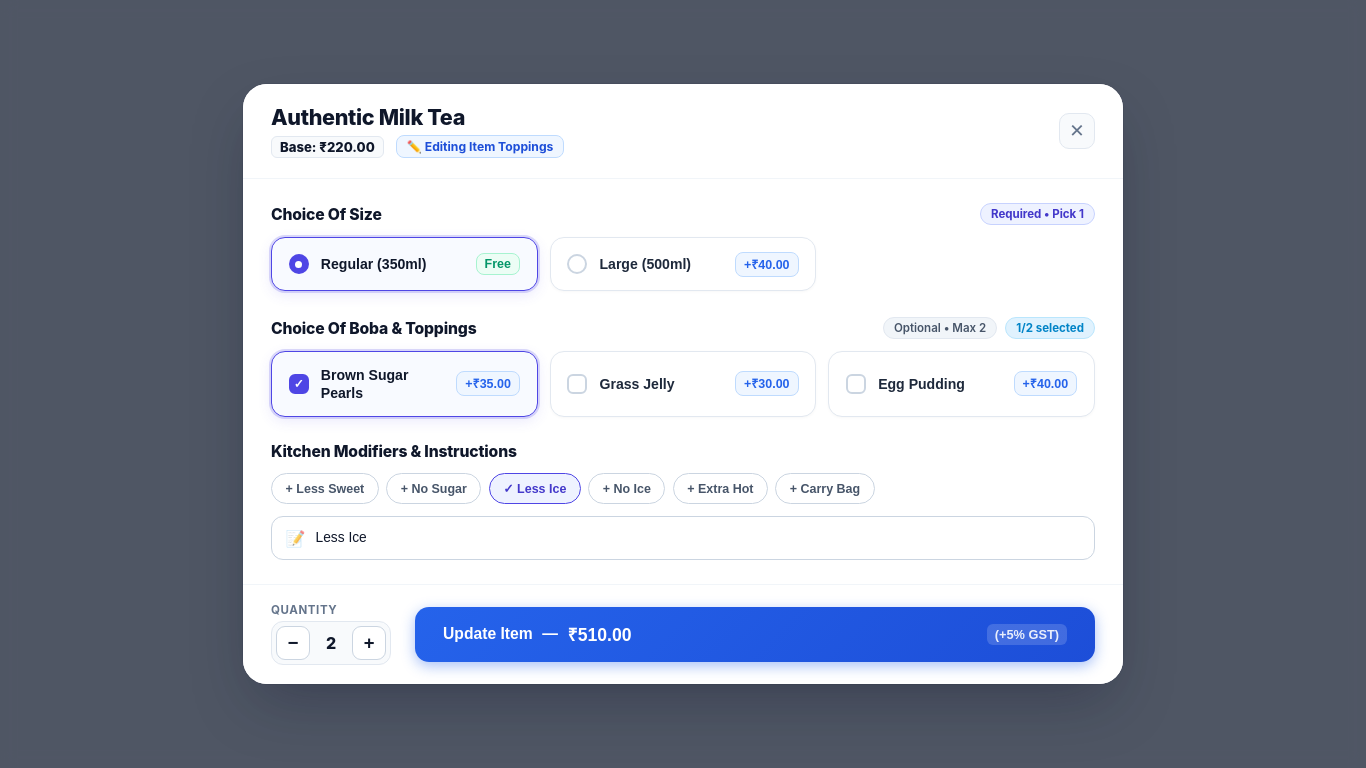
ProductModal Component › pre-populates existing cart item toppings and calls onUpdateCartItem when updating
Later steps or results of the test are not shown.
expect the text "✏️ Editing Item Toppings" is shown: met, box x1=396 y1=135 x2=564 y2=158
expect the button "Update Item — ₹510.00 (+5% GST)" is shown: met, box x1=415 y1=607 x2=1095 y2=662
Click the text "Grass Jelly" at {"x": 637, "y": 384}, box x1=600 y1=375 x2=675 y2=393
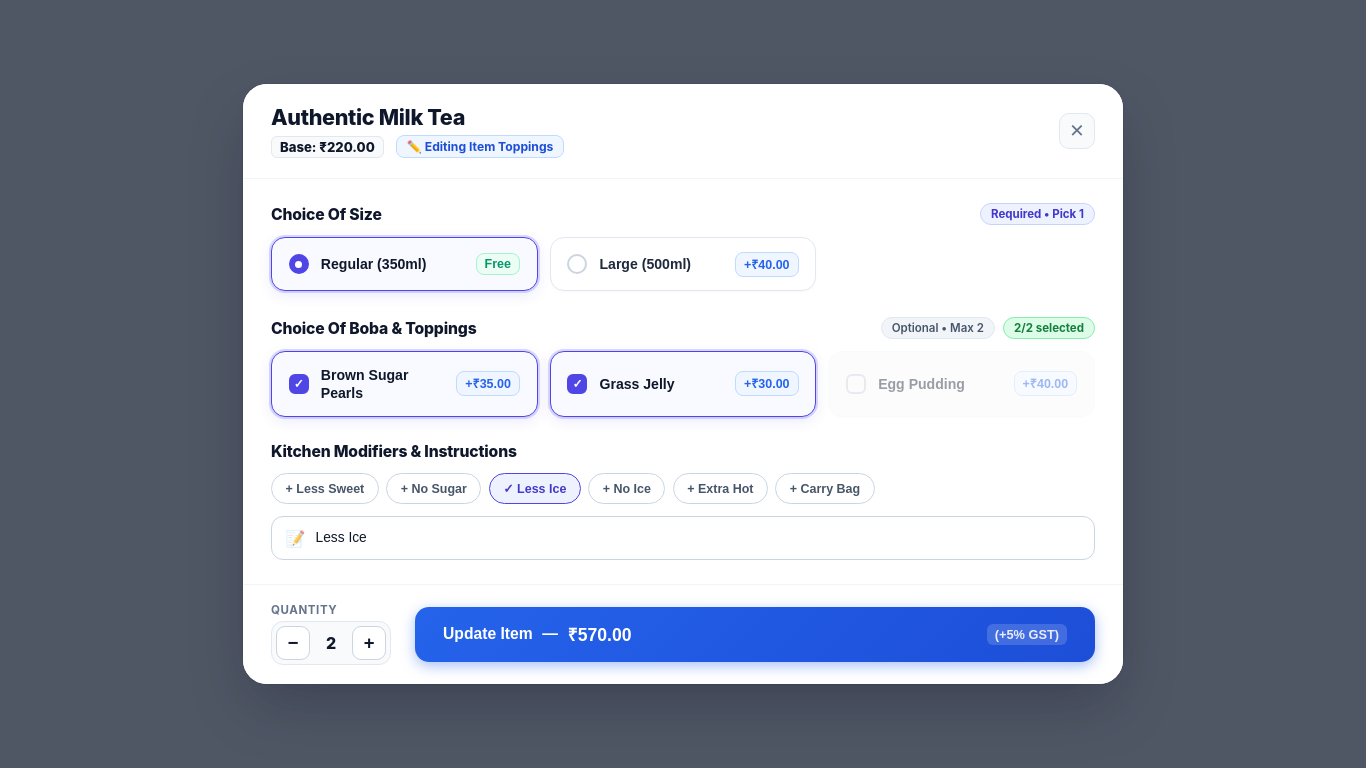
expect the button "₹570.00" is shown: met, box x1=568 y1=622 x2=632 y2=646
